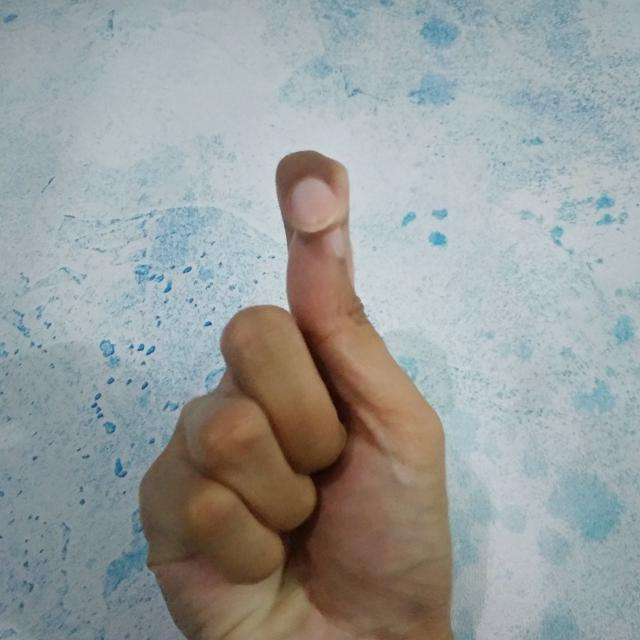T: (131, 142, 462, 640)
